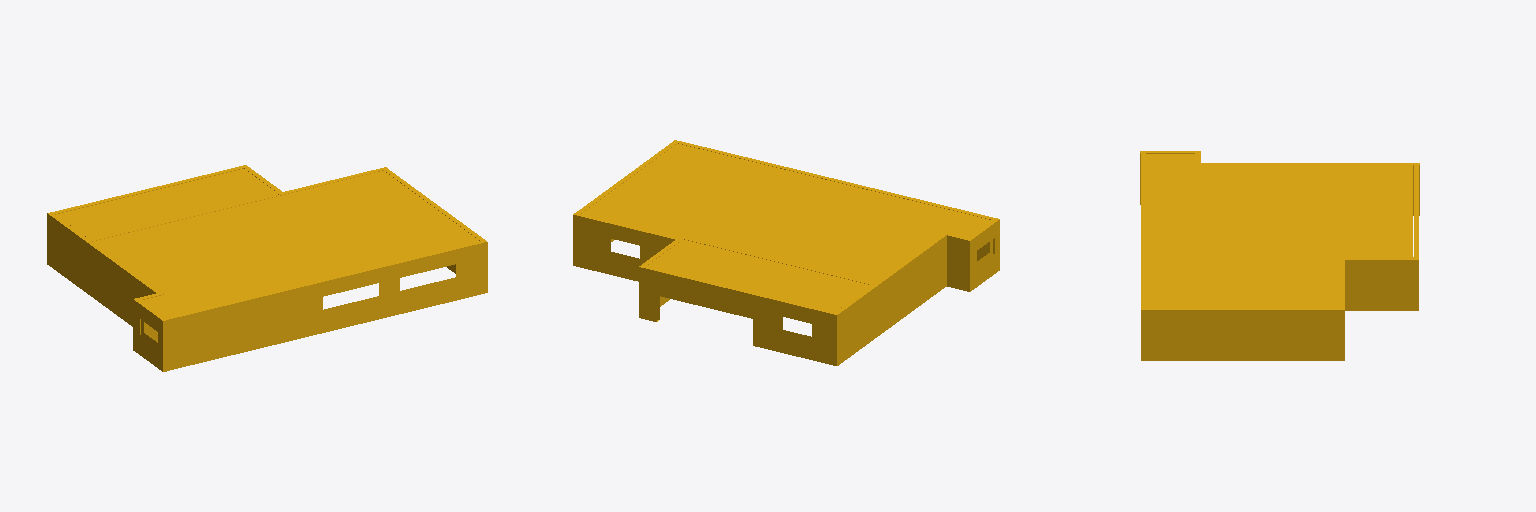
Rendered from recycled_water_process.obj.
3 views of the same model, side by side, from view 1: azimuth 30°, elevation 25°; view 2: azimuth 150°, elevation 25°; view 3: azimuth 270°, elevation 25° (orthographic).
Parts seen in each view (by area): view 1: ___.8, ___.2, ___.9, ___.4, ___.10, ___, ___.1, ___.5; view 2: ___.8, ___.5, ___.9, ___.4, ___.7, ___.10, ___, ___.2, ___.3; view 3: ___.8, ___.1, ___.9, ___.6, ___.10, ___.2, ___.4.
Part boxes in pixels (x1,y1,x2,y2): ___.8: (93,171,478,297); ___.2: (163,241,483,370); ___.9: (56,169,279,241); ___.4: (47,212,163,326); ___.10: (141,281,243,317); ___: (133,298,167,371); ___.1: (384,169,487,293); ___.5: (48,165,245,214); ___.8: (582,143,968,284); ___.5: (639,265,839,364); ___.9: (647,240,871,311); ___.4: (832,232,948,365); ___.7: (573,213,683,281); ___.10: (889,201,991,237); ___: (965,218,999,291); ___.2: (678,141,996,260); ___.3: (947,233,971,290); ___.8: (1146,165,1339,306); ___.1: (1141,307,1339,360); ___.9: (1340,165,1412,256); ___.6: (1339,257,1418,310); ___.10: (1146,154,1194,192); ___.2: (1141,152,1145,307); ___.4: (1195,163,1419,215).
Size of the model in its own units: 5495 by 827 by 4087.